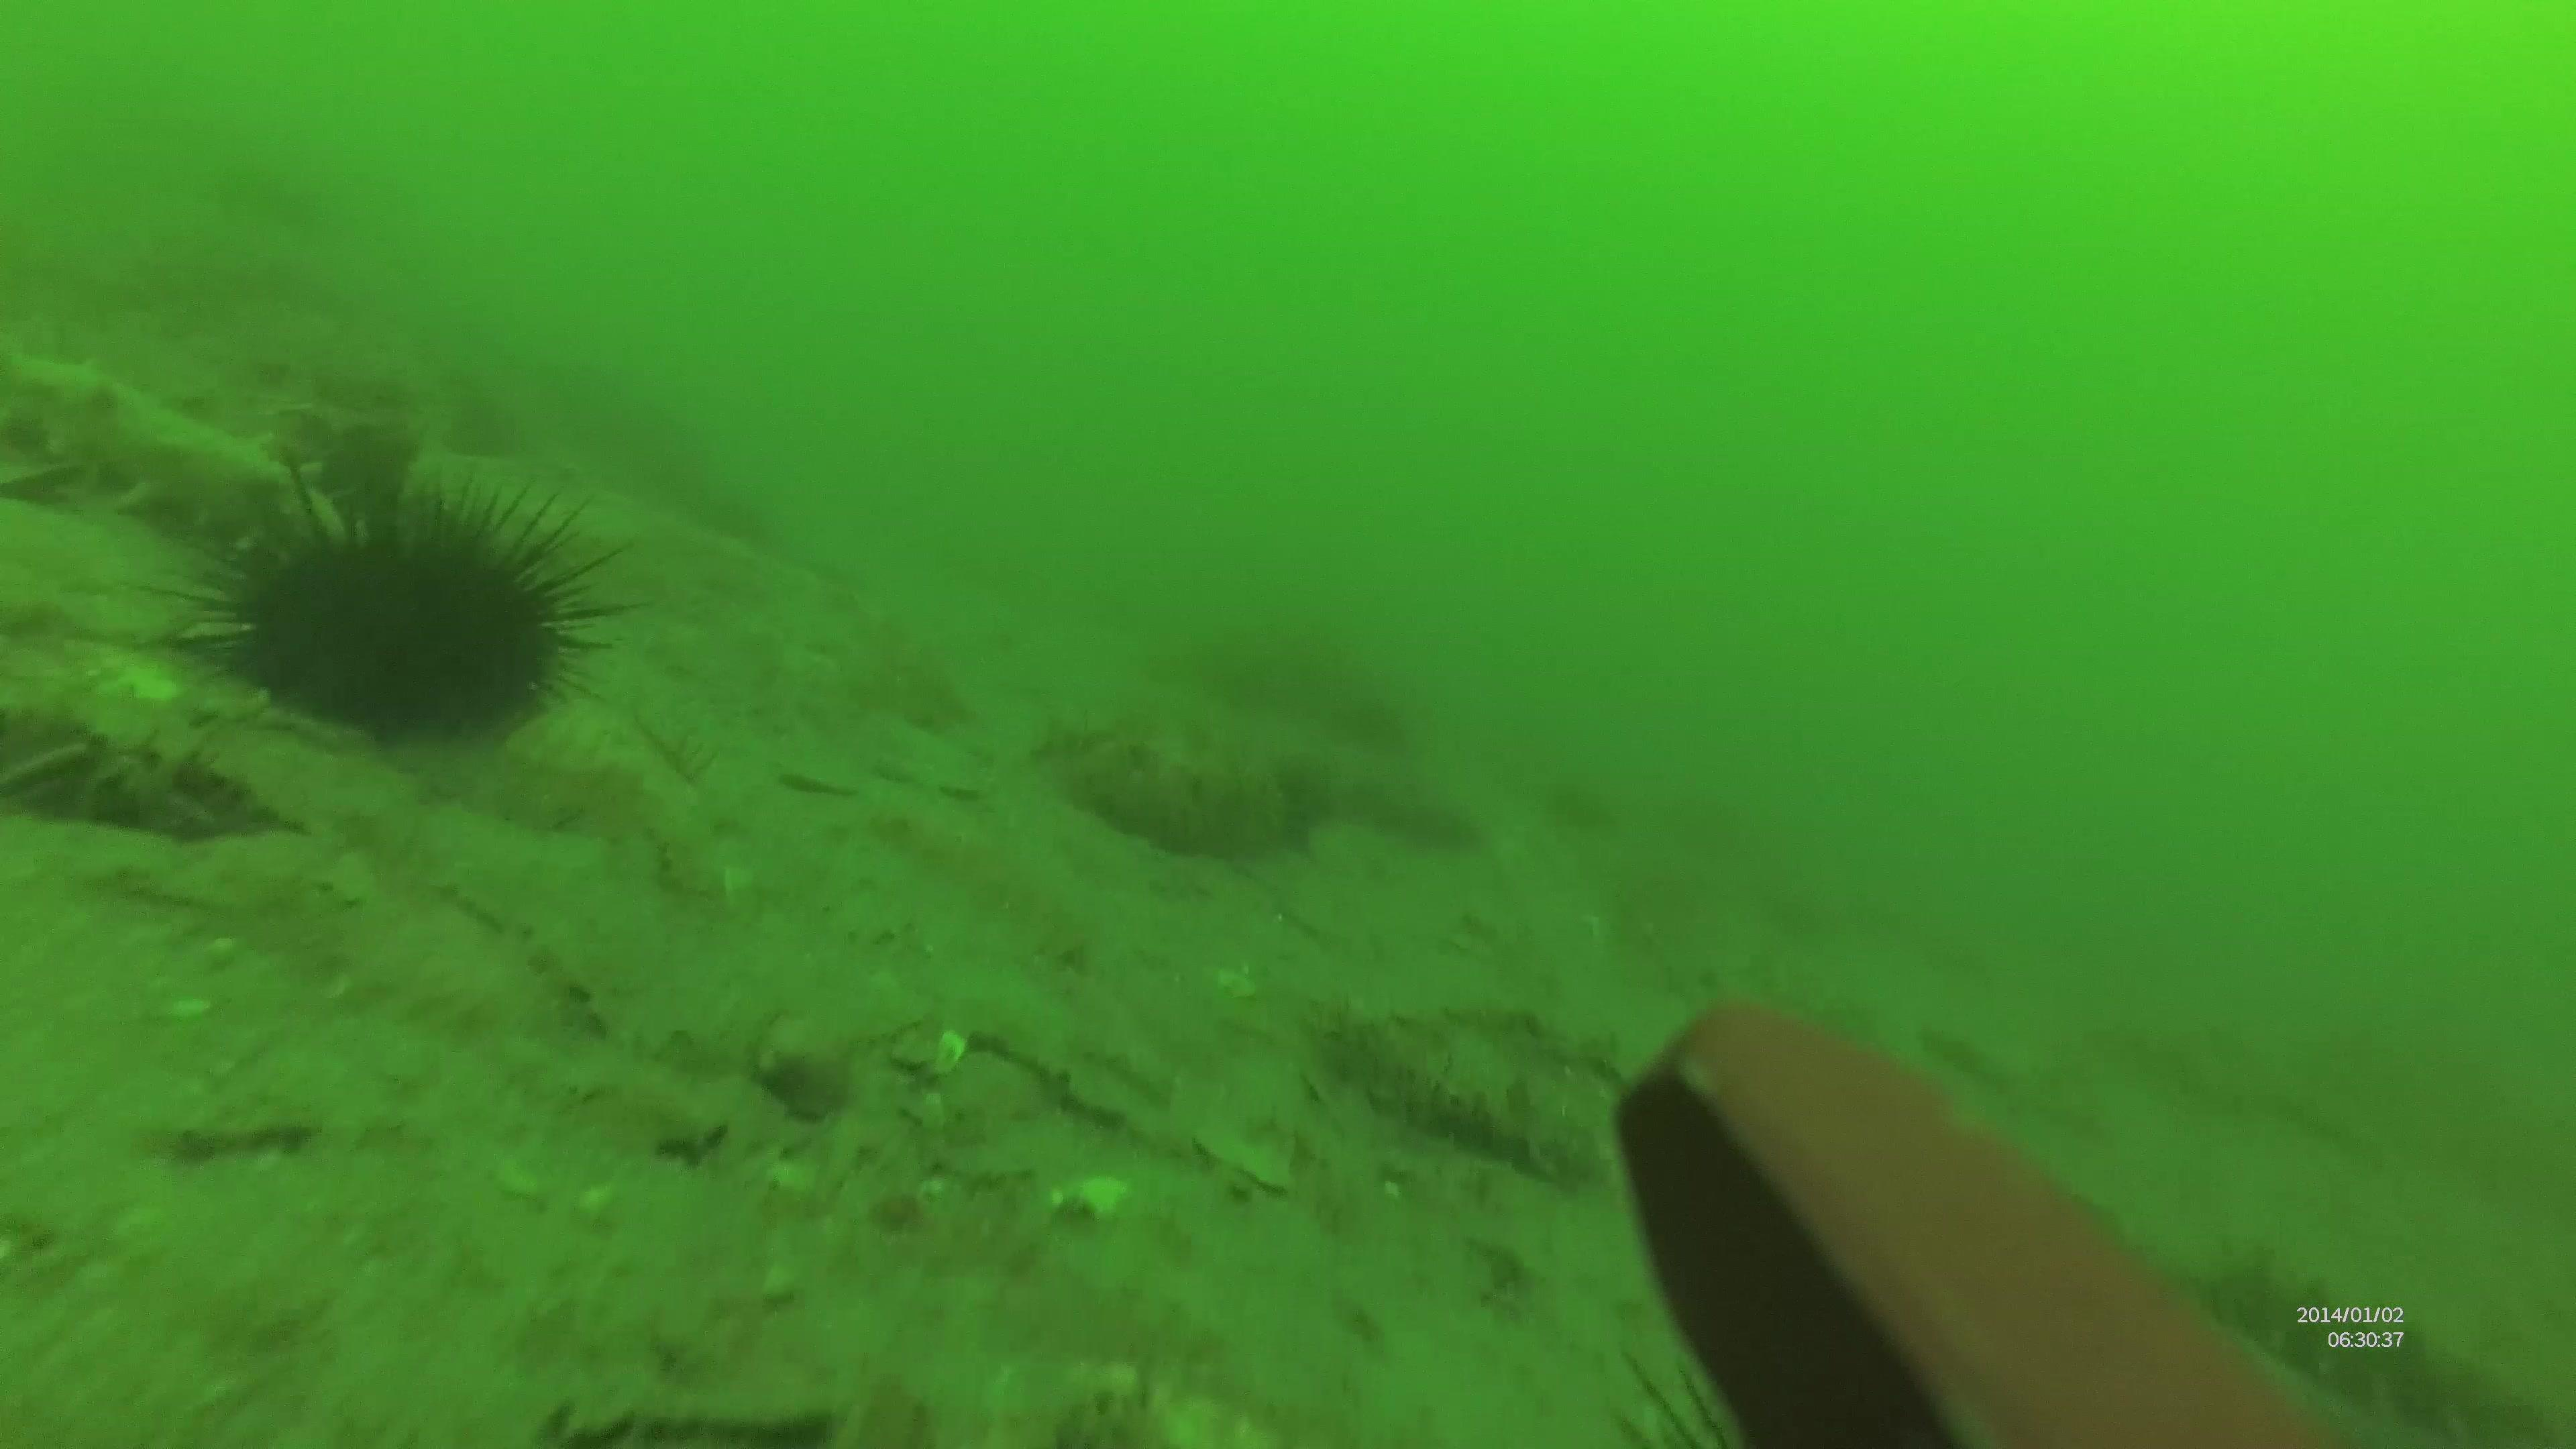echinus: (143, 449, 655, 750)
holothurian: (2192, 1219, 2576, 1449), (0, 345, 357, 582)
